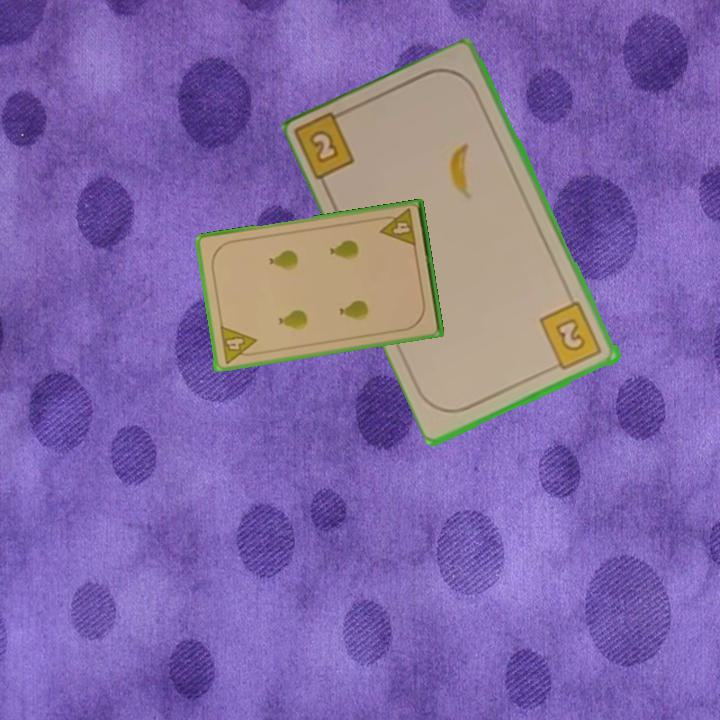2b: (536, 298, 605, 374), (294, 105, 358, 185)
4p: (375, 205, 419, 250), (216, 322, 260, 366)
